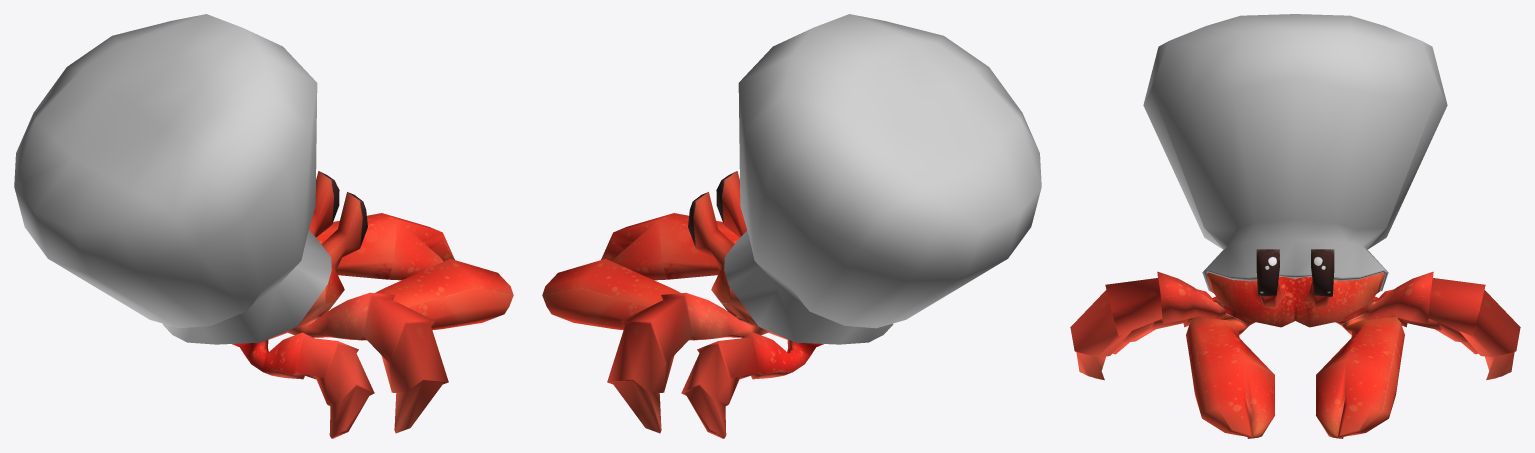
File: chef_crab.obj
3 renders of one model, left to right at view 1: azimuth 30°, elevation 25°; view 2: azimuth 150°, elevation 25°; view 3: azimuth 270°, elevation 25°, orthographic. The views are drawn at different scales.
Parts seen in each view (by area): view 1: chef_hat, chef_crab; view 2: chef_hat, chef_crab; view 3: chef_hat, chef_crab.
Boxes of the visible parts, <box> form: chef_hat: <box>14,14,331,344</box>; chef_crab: <box>232,171,513,438</box>; chef_hat: <box>724,14,1041,344</box>; chef_crab: <box>542,171,823,438</box>; chef_hat: <box>1143,14,1447,291</box>; chef_crab: <box>1070,249,1520,438</box>.
Bounding box in the file's own units: 10.48 × 7.67 × 9.63.
